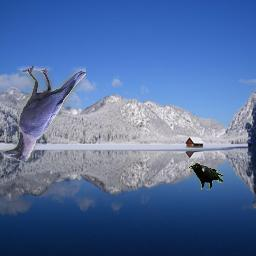Crow: (4, 67, 87, 162), (187, 162, 223, 190)
